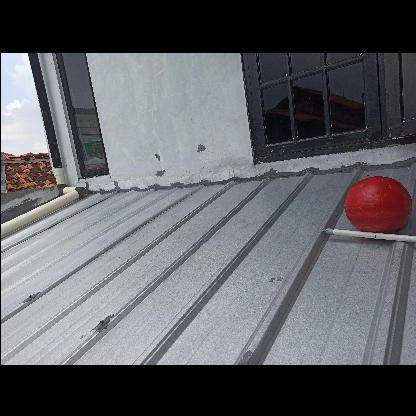red_ball: (348, 173, 408, 234)
